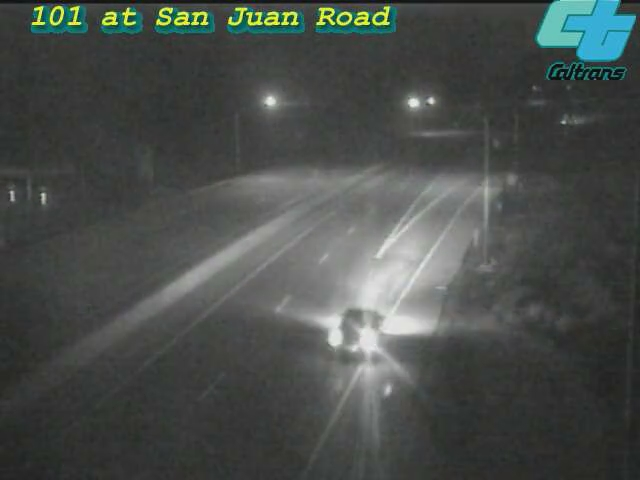vehicle: (302, 280, 412, 390), (548, 96, 598, 146)
